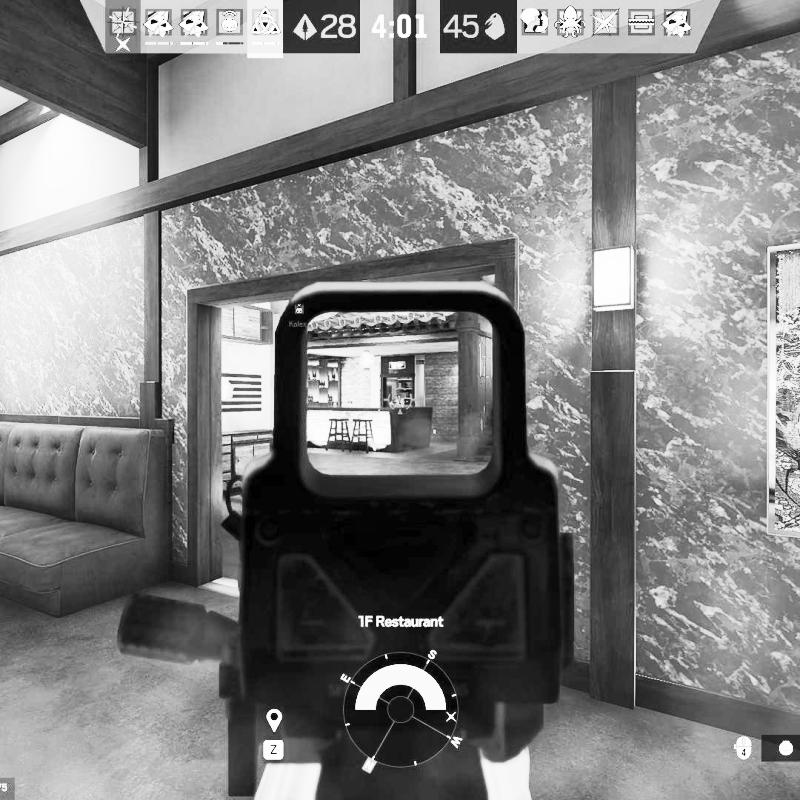Character: (388, 394, 410, 408)
Friend_label: (287, 302, 313, 328)
